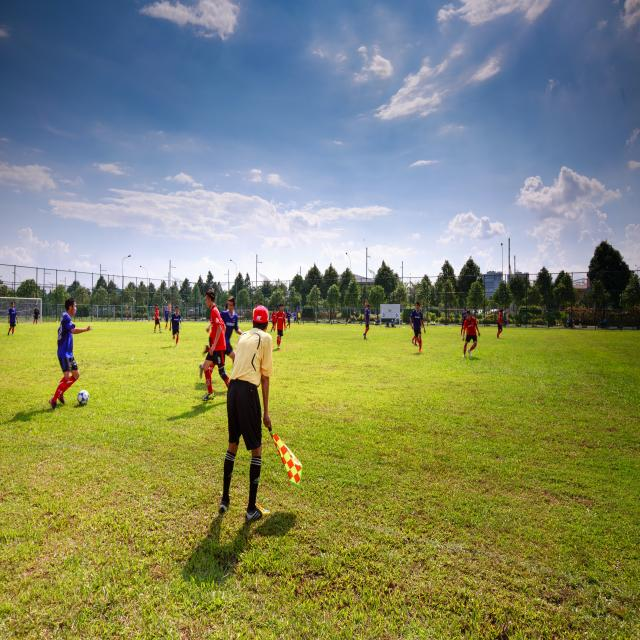football-players: (413, 272, 477, 369), (185, 292, 246, 374), (360, 304, 444, 346), (64, 261, 81, 430), (448, 300, 450, 311)
